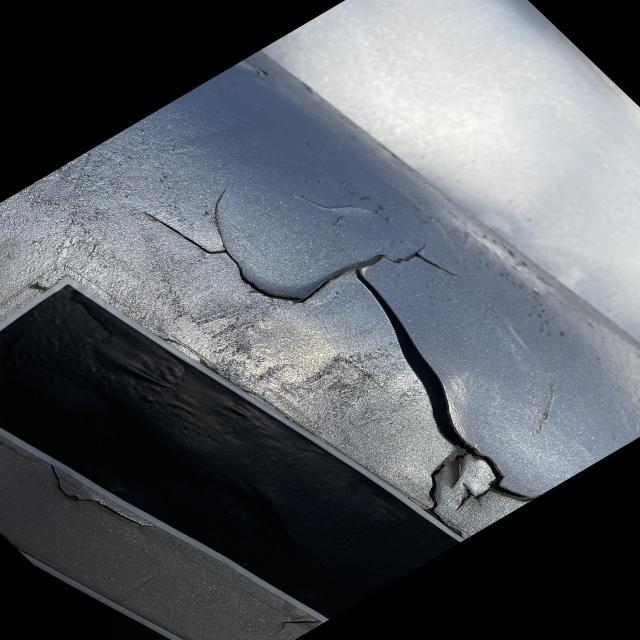crack: (365, 295, 506, 465), (168, 199, 303, 302), (323, 244, 454, 293)
